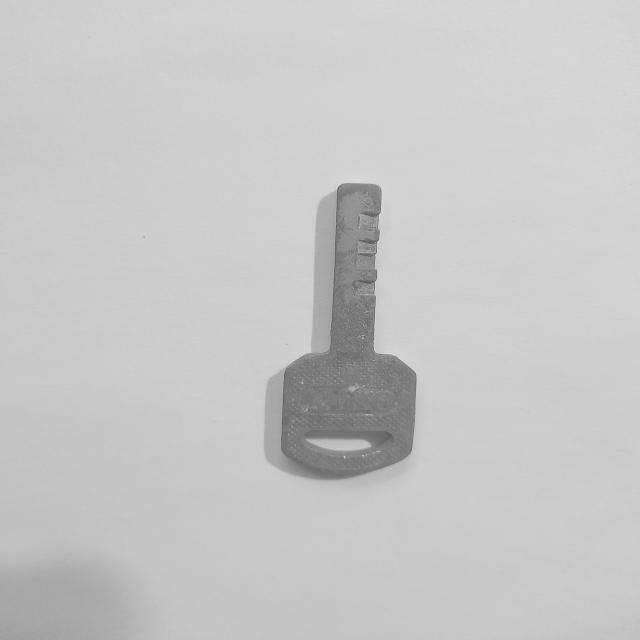KEY: (282, 183, 417, 474)
